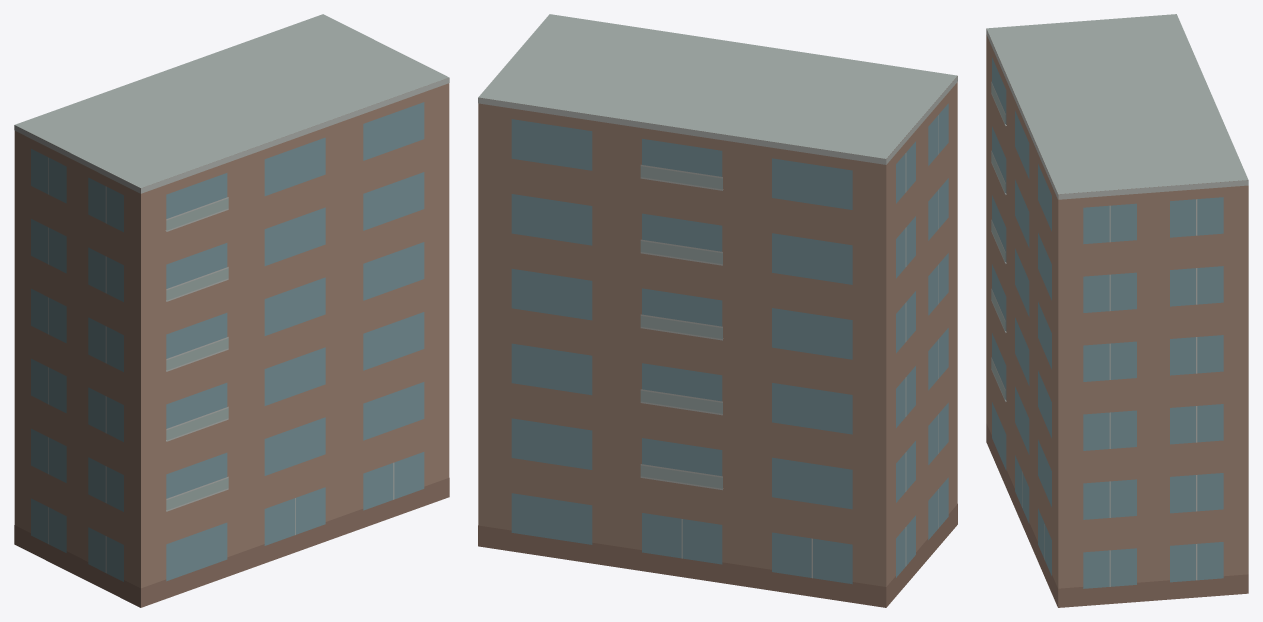
The model's file is survey-upis-33011702.glb.
The picture shows the model from 3 angles, left to right: view 1: azimuth 30°, elevation 25°; view 2: azimuth 150°, elevation 25°; view 3: azimuth 270°, elevation 25°; orthographic projection. The views are drawn at different scales.
Parts seen in each view (by area): view 1: survey-upis-33011702.tmp; view 2: survey-upis-33011702.tmp; view 3: survey-upis-33011702.tmp.
Boxes of the visible parts, x1,y1,x2,y2 form: survey-upis-33011702.tmp: [14, 14, 449, 607]; survey-upis-33011702.tmp: [478, 14, 957, 607]; survey-upis-33011702.tmp: [986, 14, 1248, 607].
Size of the model in its own units: 17.12 by 18.3 by 10.52.
